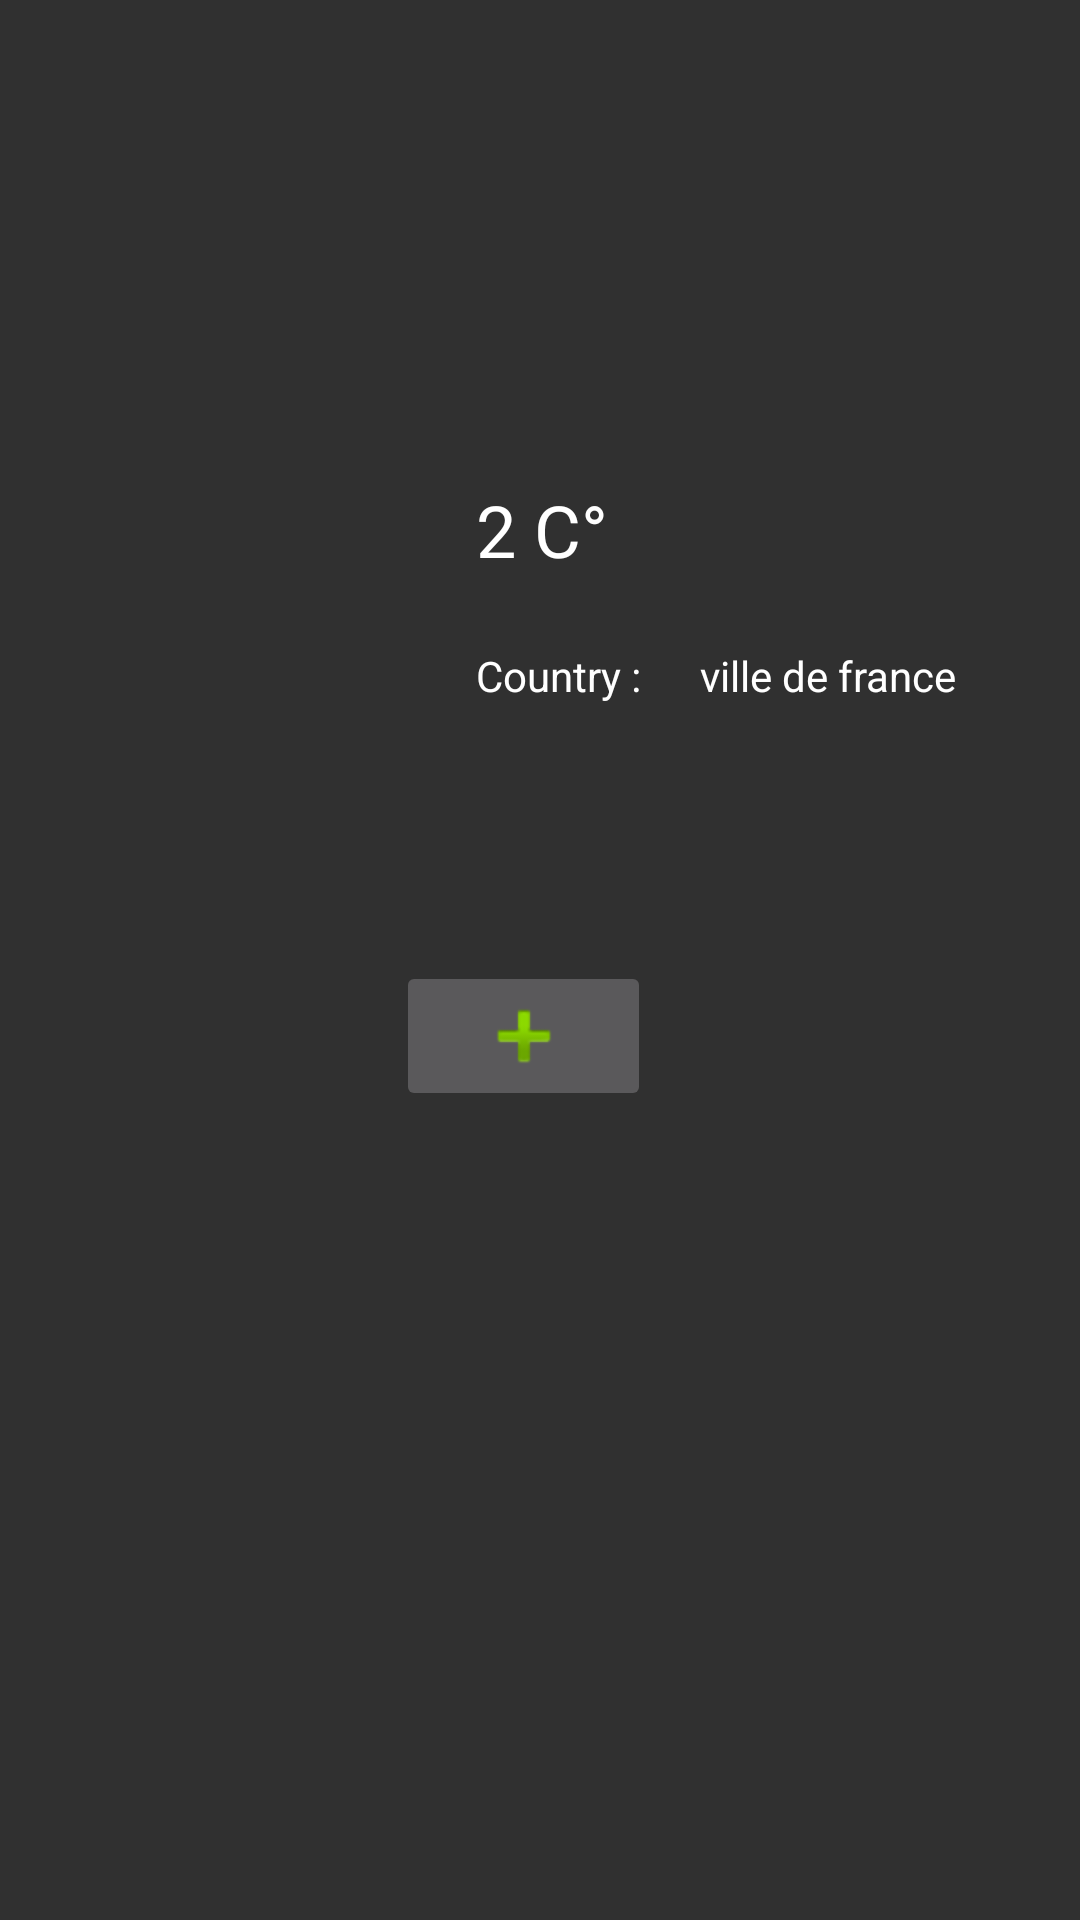

Named icons in this screenshot (1080 x 1920) and their centers, (x,y):
add: (523,1036)
